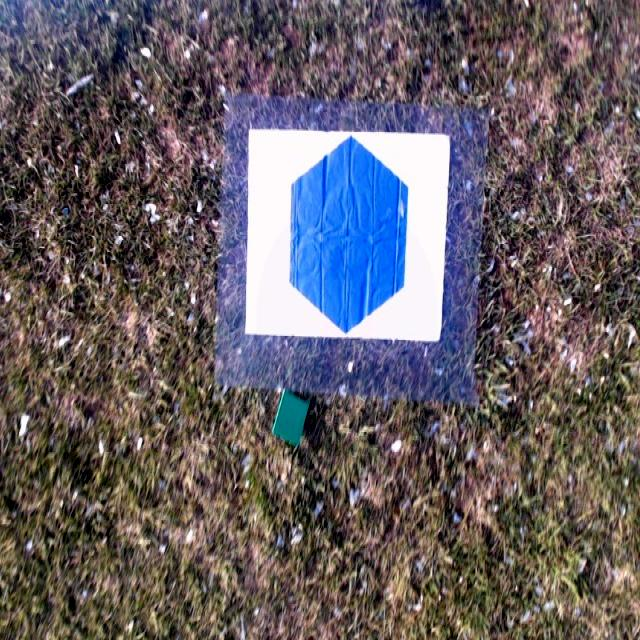blue_hexagon: (289, 138, 405, 334)
